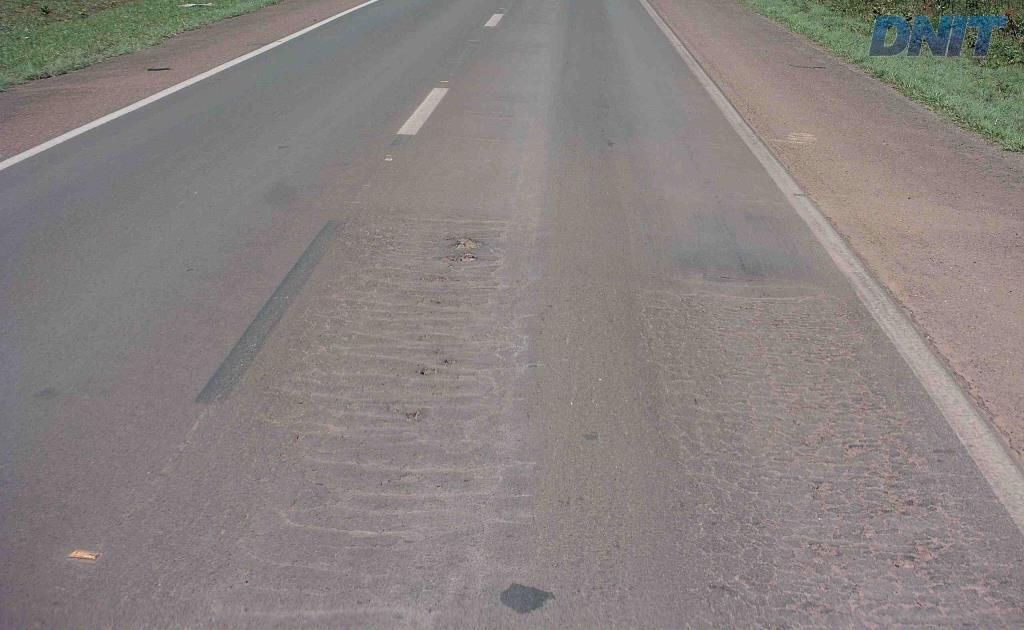crack: (438, 233, 488, 263)
pothole: (439, 232, 488, 267)
